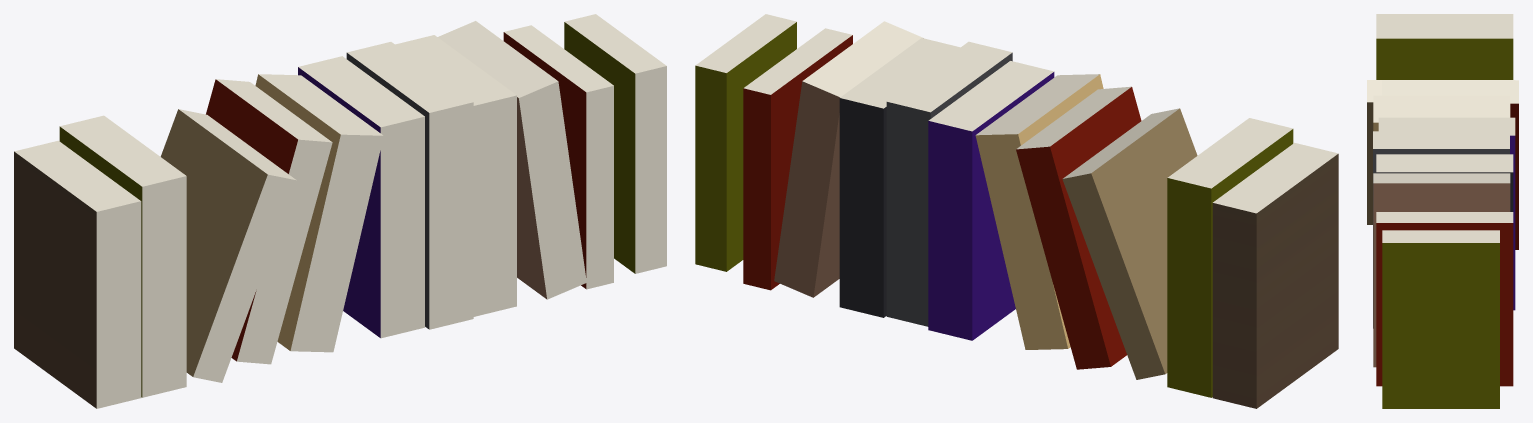
The model's file is Book_8.fbx.
The picture shows the model from 3 angles, left to right: view 1: azimuth 30°, elevation 25°; view 2: azimuth 150°, elevation 25°; view 3: azimuth 270°, elevation 25°; orthographic projection. The views are drawn at different scales.
Visible parts, largest first — view 1: pCube783; view 2: pCube783; view 3: pCube783.
Part boxes in pixels (x1,y1,x2,y2): pCube783: (14, 14, 666, 408); pCube783: (695, 14, 1338, 408); pCube783: (1367, 14, 1518, 408).
Bounding box in the file's own units: 96.93 × 35.23 × 26.82.
